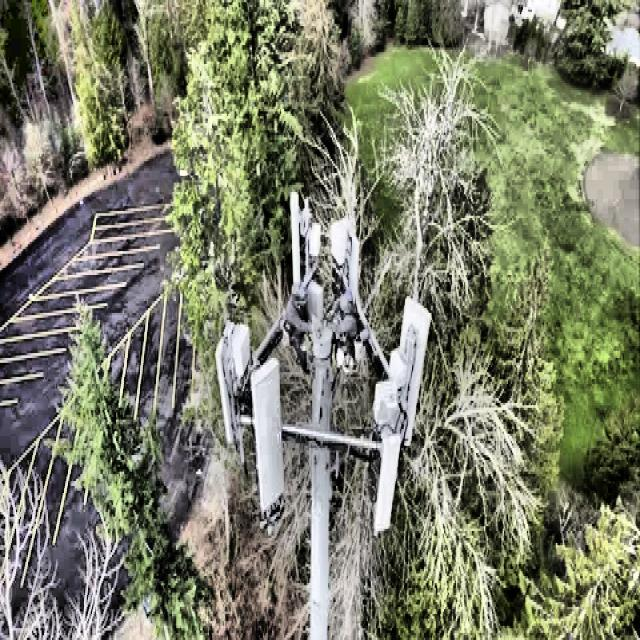antenna: (186, 193, 536, 639), (215, 192, 431, 450), (328, 218, 366, 371), (251, 358, 283, 514), (171, 247, 245, 305)
